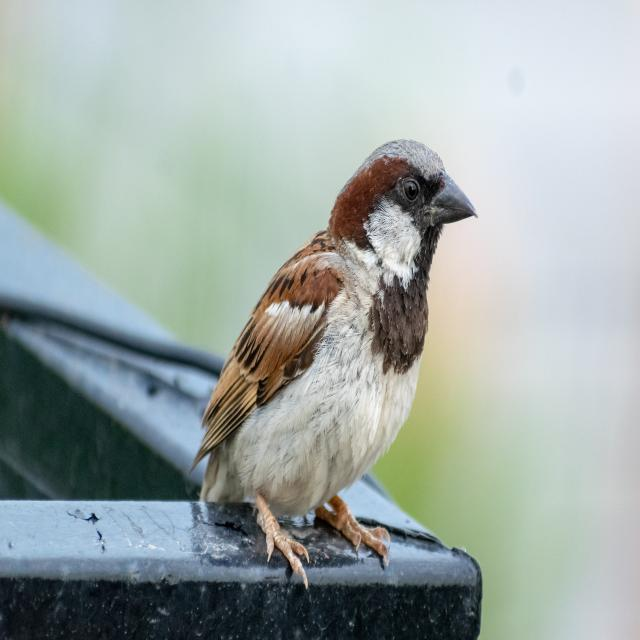brid: (198, 122, 486, 581)
